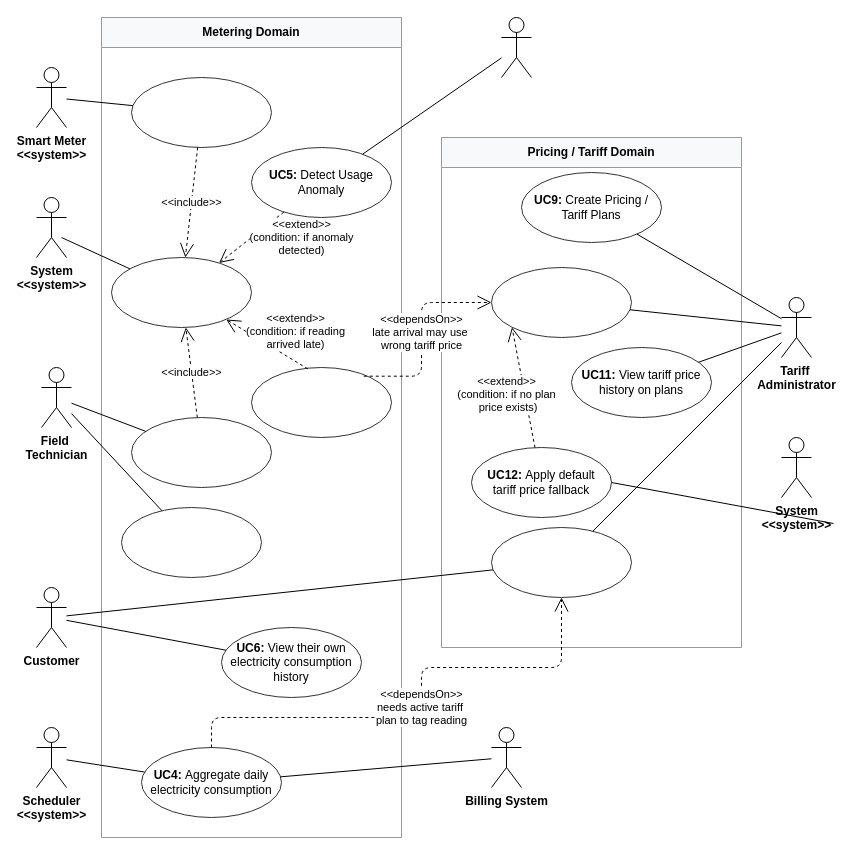
Some shapes in this 853 by 855 pixel diagram are drawn without their labels. The shapes that lost their labels are listed below. From the top down, each one's centre as x and y in pixels, then its label:
the point at 516,47: Alerting System <<system>>
the point at 201,112: UC1: Receive meter reading
the point at 181,292: UC2: Validate meter reading
the point at 561,302: UC10: Update tariff price on plans
the point at 321,402: UC8: Flag Late Arrival Reading
the point at 201,452: UC3: Record manual meter reading
the point at 191,542: UC7: Manage meter lifecycle
the point at 561,562: UC13: Subscribe customer to tariff plan
